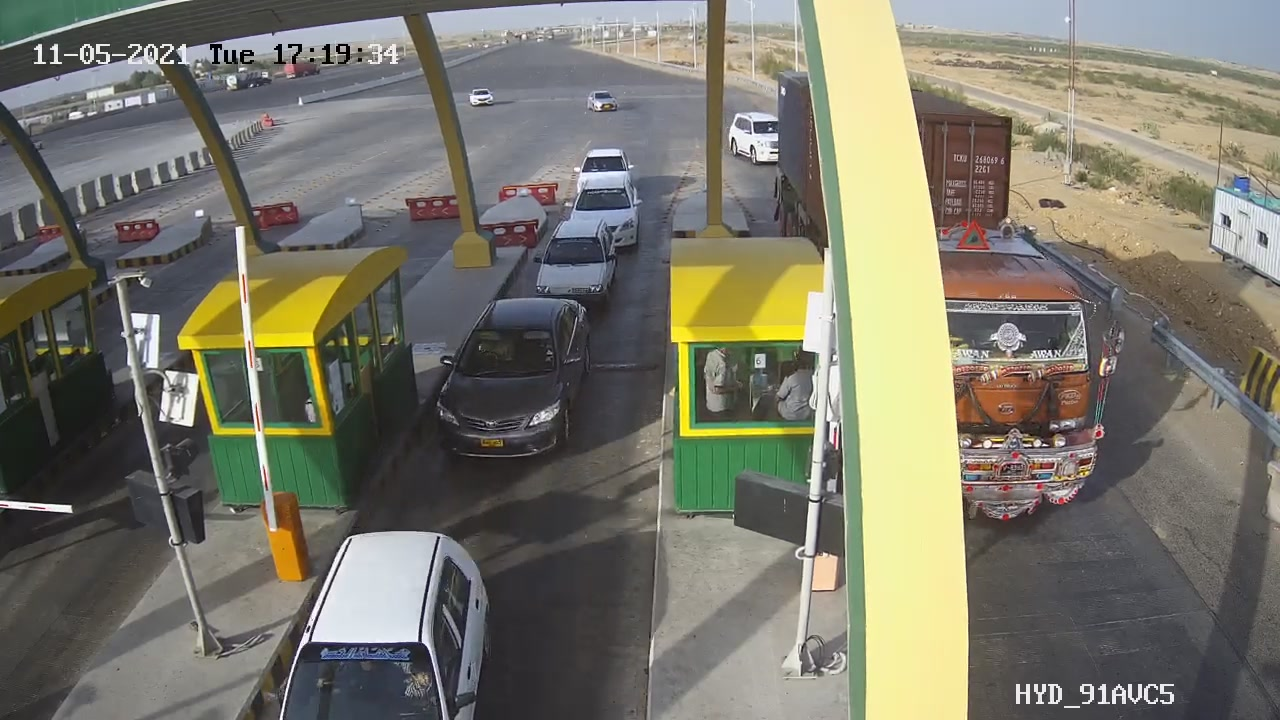F1: (416, 275, 613, 475), (522, 209, 630, 329)
